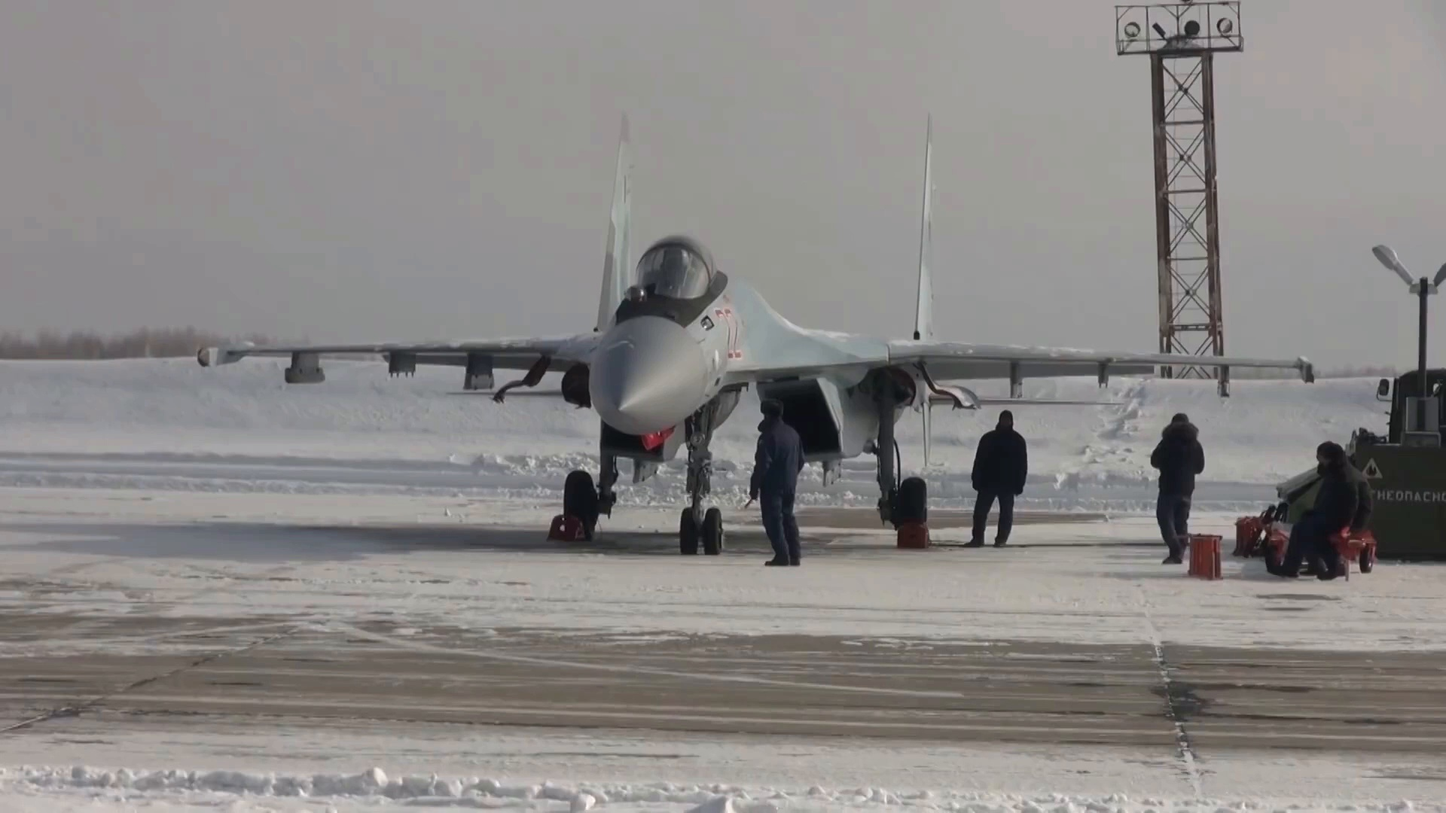Su35: (195, 107, 1314, 553)
